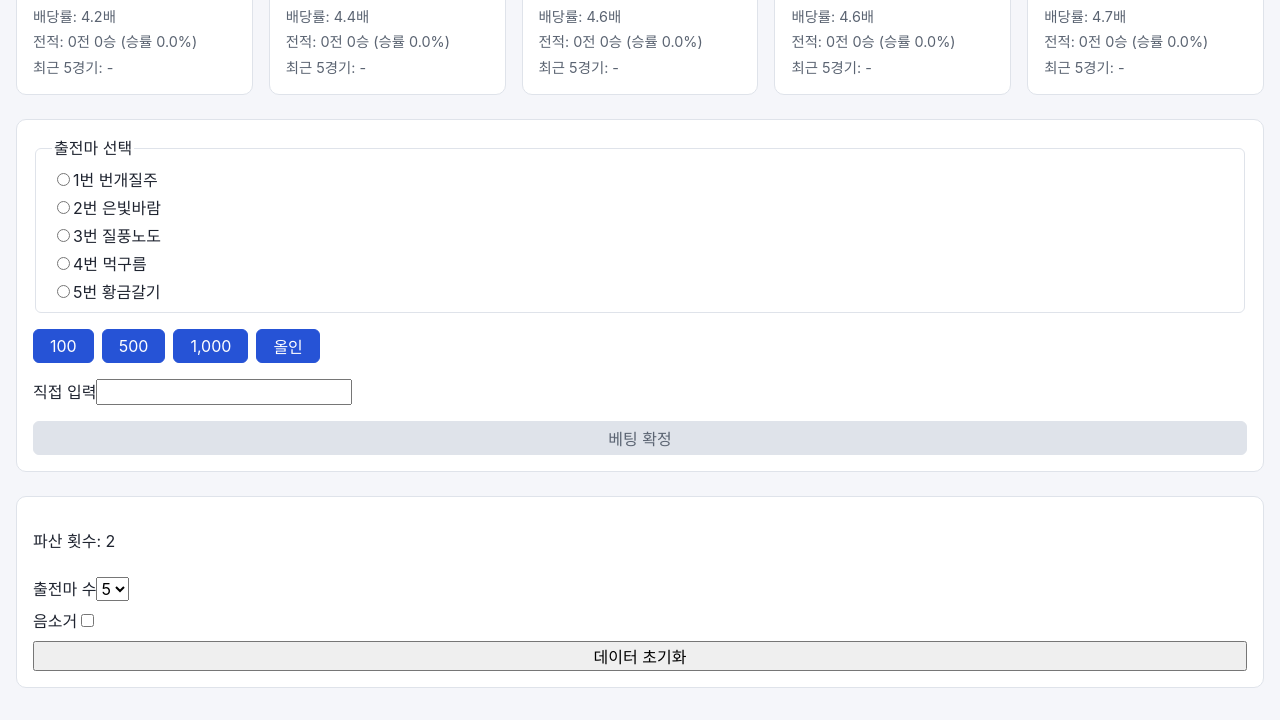
Test case: App › T19 이월 메모 해소: 설정 변경·초기화가 store에 실연결된다 › 초기화 확인 후 잔고·파산 횟수가 기본값으로 복귀하고 저장 계층도 리셋된다
(page scrolled)
Click the button "데이터 초기화" at (640, 656), box x1=33 y1=641 x2=1247 y2=671
(page scrolled)
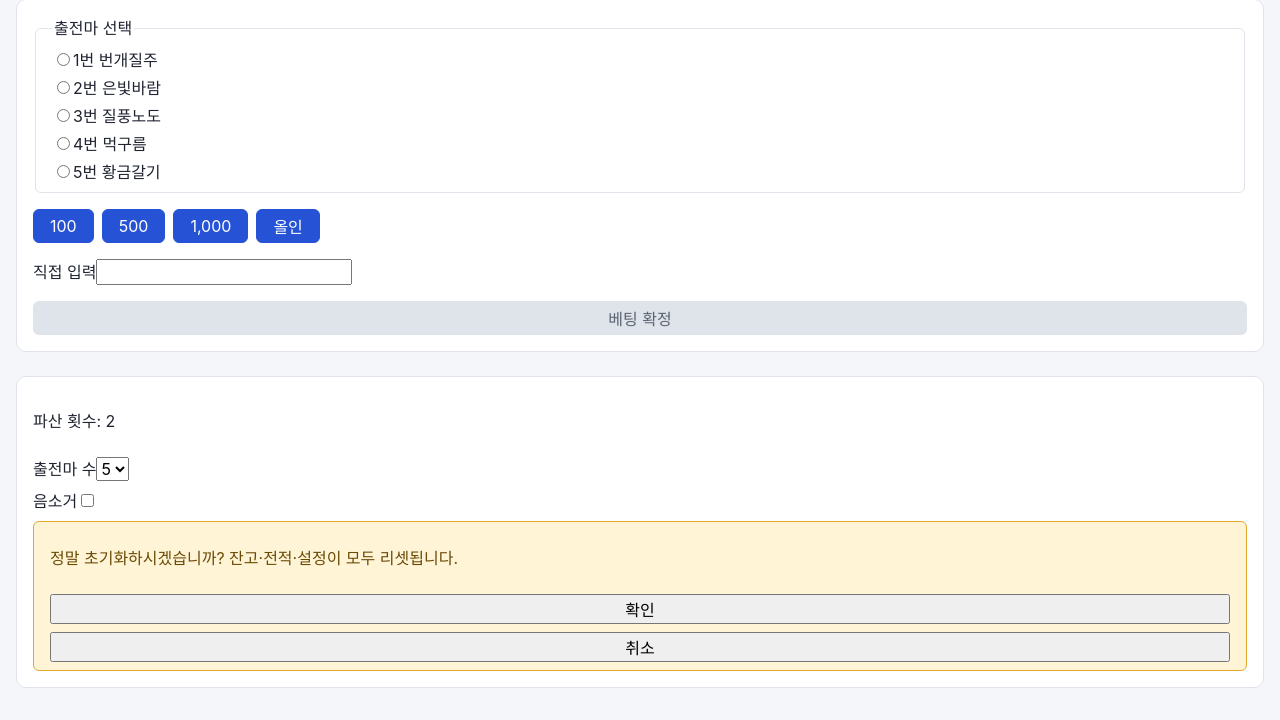
Click the button "확인" at (640, 609), box x1=50 y1=594 x2=1230 y2=624
(page scrolled)
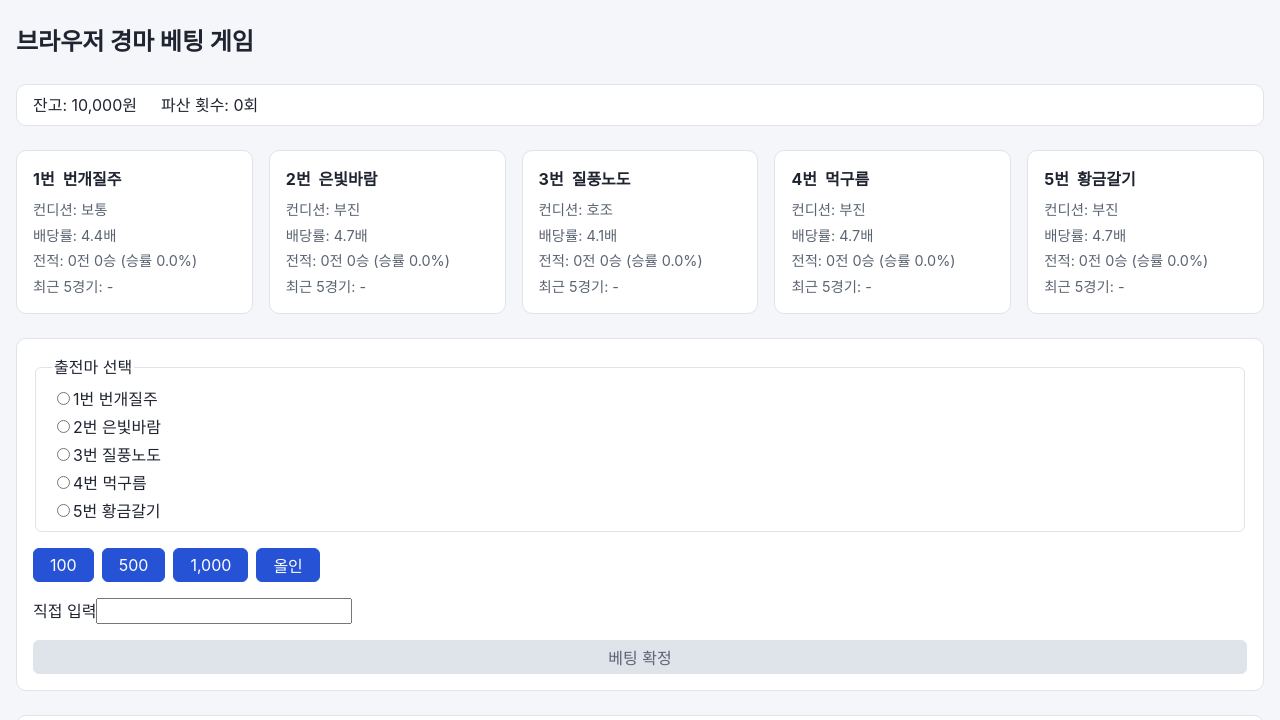
Result: the text "잔고: 10,000원" is shown at x1=33 y1=93 x2=137 y2=117
Result: the text "파산 횟수: 0회" is shown at x1=161 y1=93 x2=258 y2=117
